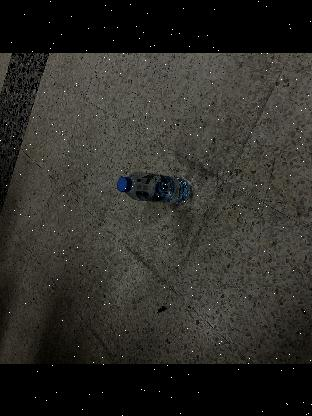Plastic Bottle: (118, 171, 194, 203)
